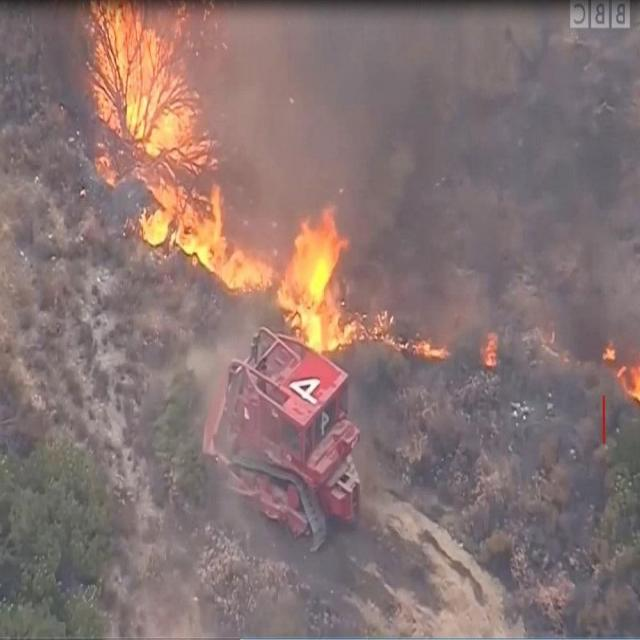fire: (94, 15, 459, 353)
